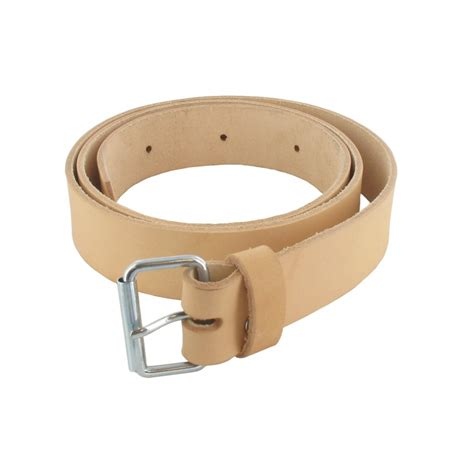cuero: (66, 95, 396, 365)
